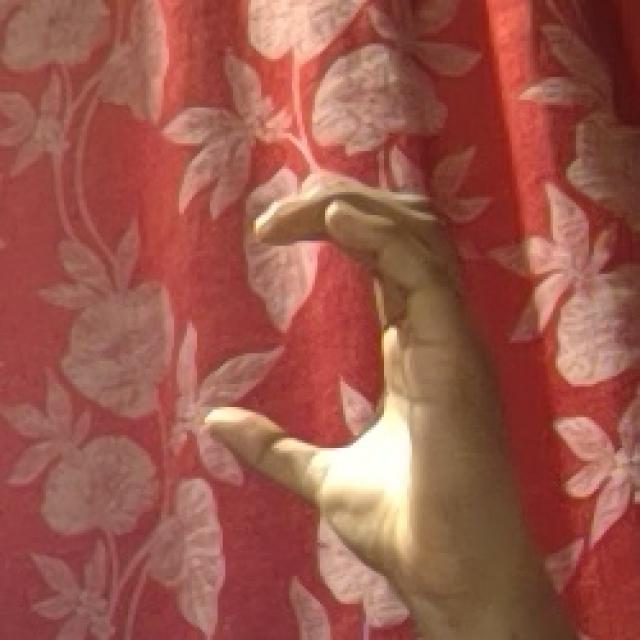Alphabet-C: (207, 174, 579, 640)
